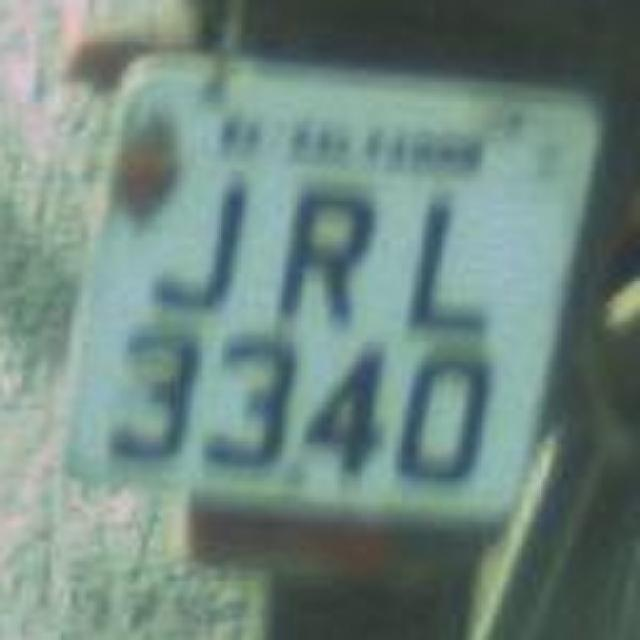0: (396, 312, 509, 488)
3: (91, 316, 224, 504), (192, 315, 320, 500)
4: (304, 324, 404, 491)
J: (136, 164, 252, 336)
R: (260, 171, 368, 344)
